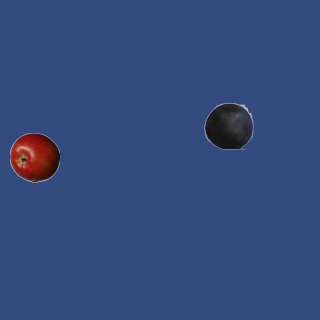Apple Braeburn: (9, 132, 59, 182)
Grape Blue: (203, 100, 253, 150)
